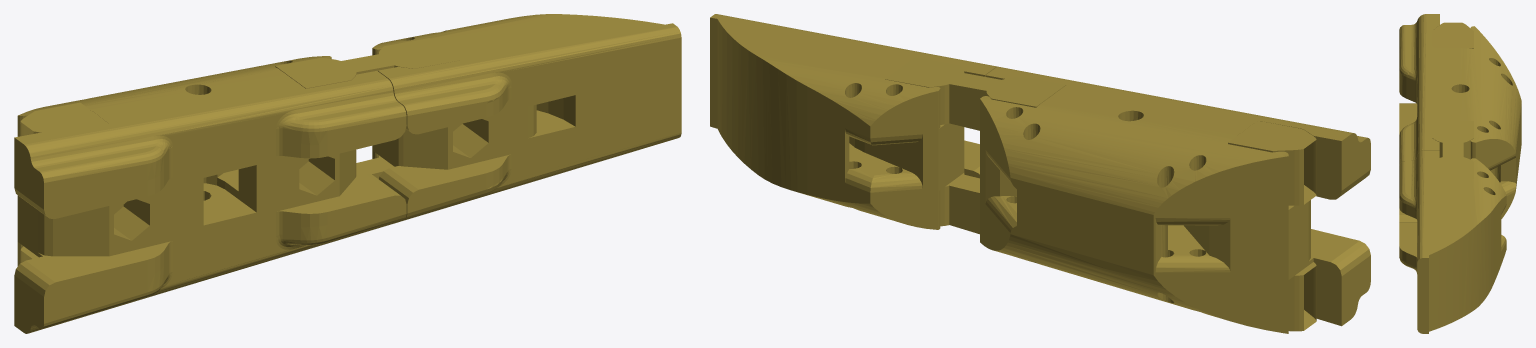
Rendered from finger_tip.obj.
The picture shows the model from 3 angles, left to right: view 1: azimuth 30°, elevation 25°; view 2: azimuth 150°, elevation 25°; view 3: azimuth 270°, elevation 25°; orthographic projection. The views are drawn at different scales.
Parts seen in each view (by area): view 1: FingerAssem3.001; view 2: FingerAssem3.001; view 3: FingerAssem3.001.
Part boxes in pixels (x1=…): FingerAssem3.001: x1=14, y1=14, x2=681, y2=333; FingerAssem3.001: x1=710, y1=14, x2=1370, y2=333; FingerAssem3.001: x1=1399, y1=14, x2=1521, y2=333.
Size of the model in its own units: 0.0859 by 0.0238 by 0.0205.
